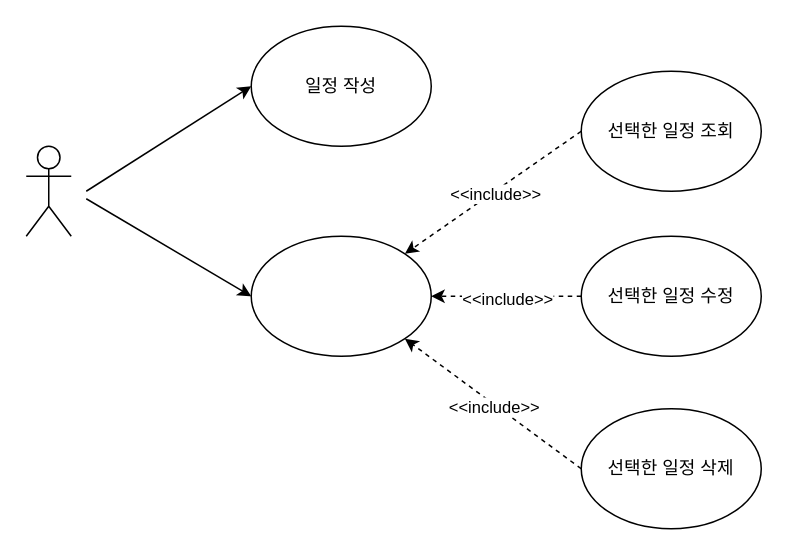
Image size: 788x555. Some labels were removed from this diagram. The shapes that lost their labels are listed below. From the top down, each one's box as (x1, y1, x2, y2) in pixels, then its label:
(25, 145, 71, 236): Actor
(250, 235, 431, 356): 일정 목록 조회
